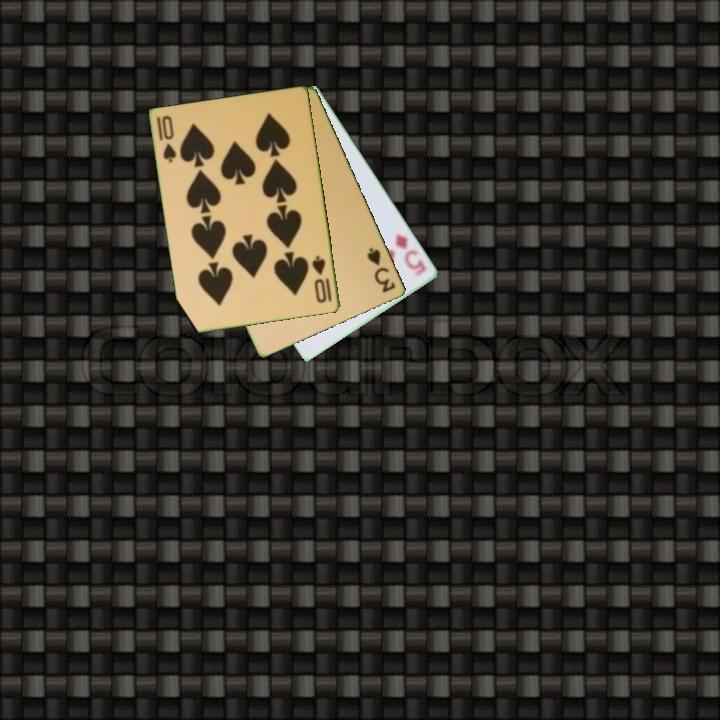10s: (153, 112, 180, 166), (309, 253, 335, 306)
3s: (364, 244, 399, 296)
5d: (392, 231, 429, 279)
